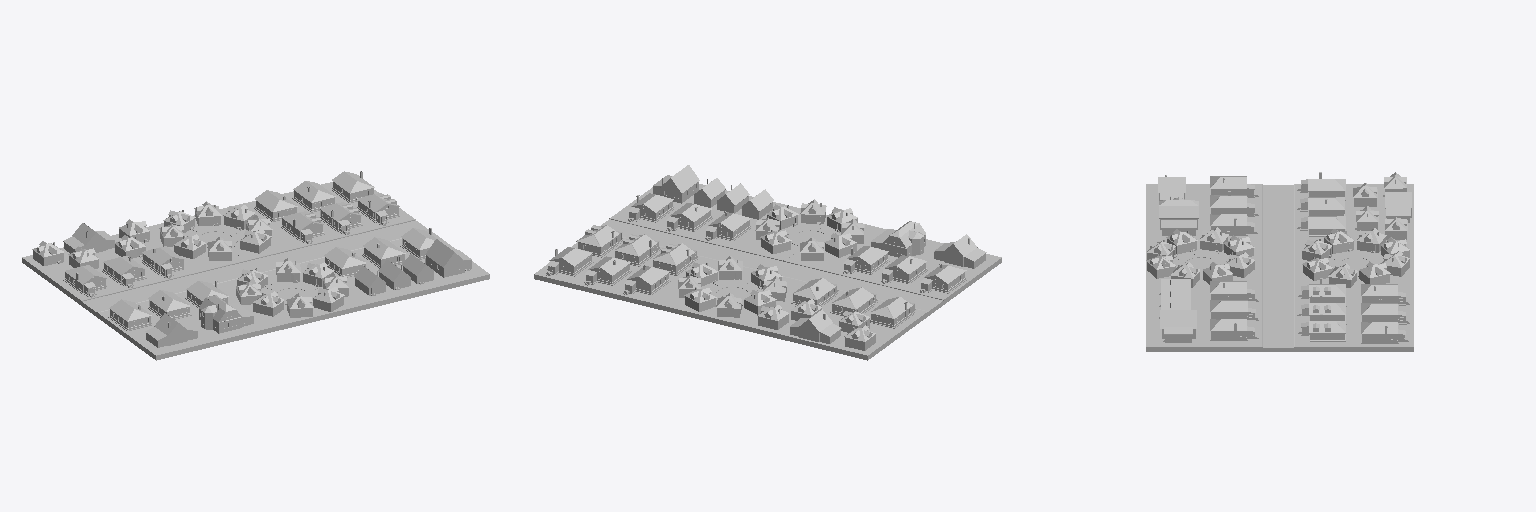
File: sat.obj
The picture shows the model from 3 angles: view 1: azimuth 30°, elevation 25°; view 2: azimuth 150°, elevation 25°; view 3: azimuth 270°, elevation 25°; orthographic projection.
Parts seen in each view (by area): view 1: Object_4, Object_9, Object_7, Object_11, Object_5; view 2: Object_9, Object_4, Object_7, Object_11, Object_5; view 3: Object_4, Object_9, Object_11, Object_7, Object_5.
Boxes of the visible parts, box(x1,y1,x2,y2) form: Object_4: box(22, 182, 489, 360); Object_9: box(63, 171, 440, 330); Object_7: box(32, 219, 471, 347); Object_11: box(159, 201, 348, 317); Object_5: box(81, 219, 428, 317); Object_9: box(546, 193, 966, 328); Object_4: box(534, 184, 1001, 360); Object_7: box(653, 165, 986, 350); Object_11: box(678, 199, 864, 317); Object_5: box(600, 218, 943, 316); Object_4: box(1146, 184, 1413, 351); Object_9: box(1210, 172, 1410, 343); Object_11: box(1146, 227, 1409, 287); Object_7: box(1158, 172, 1411, 342); Object_5: box(1262, 184, 1294, 351).
Size of the model in its own units: 124 by 10.5 by 86.48.